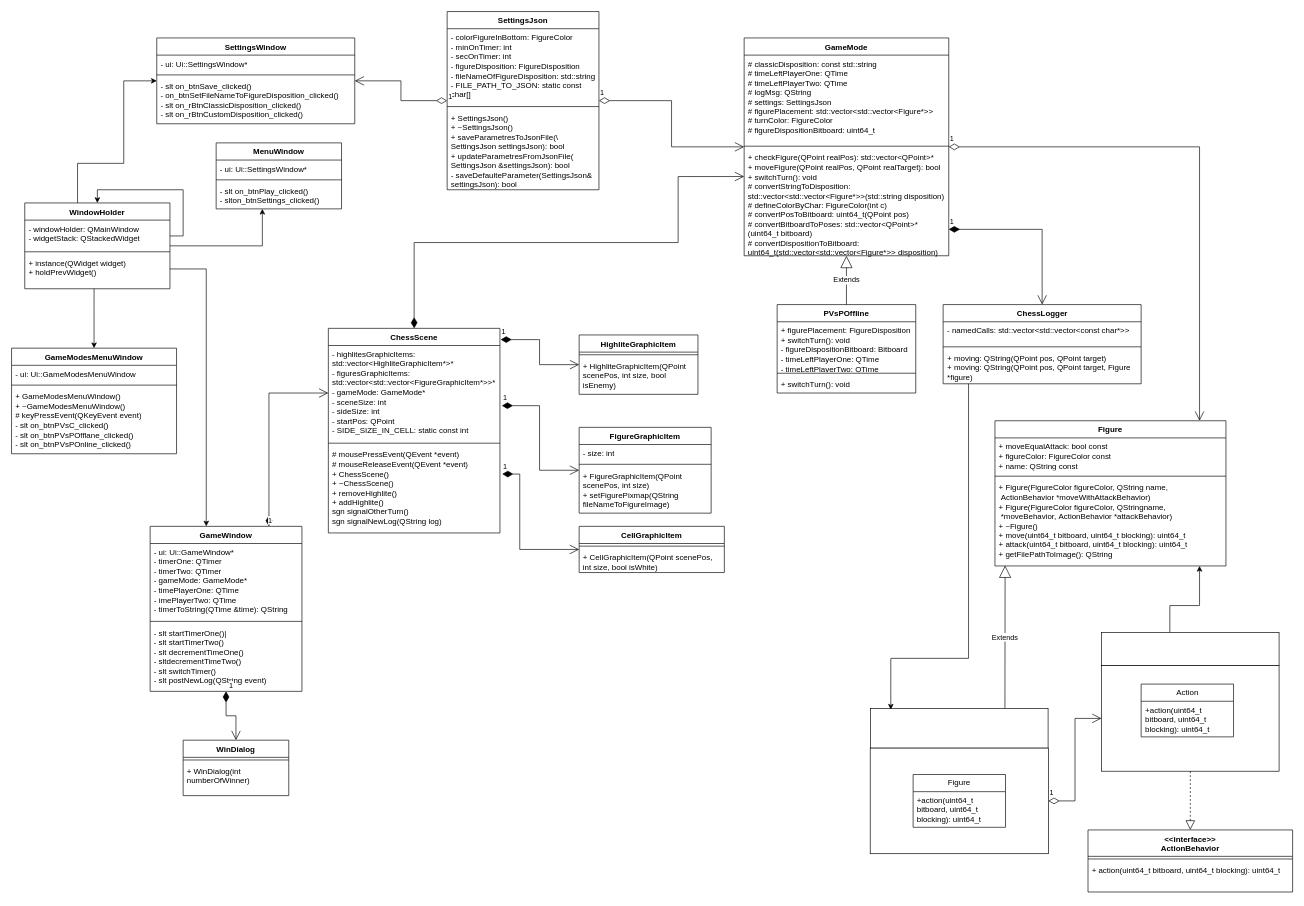
Some shapes in this 1304 by 906 pixel diagram are drawn without their labels. The shapes that lost their labels are listed below. From the top down, each one's centre as x and y in pixels, then its label:
(x=1190, y=649): actions
(x=959, y=728): figures
